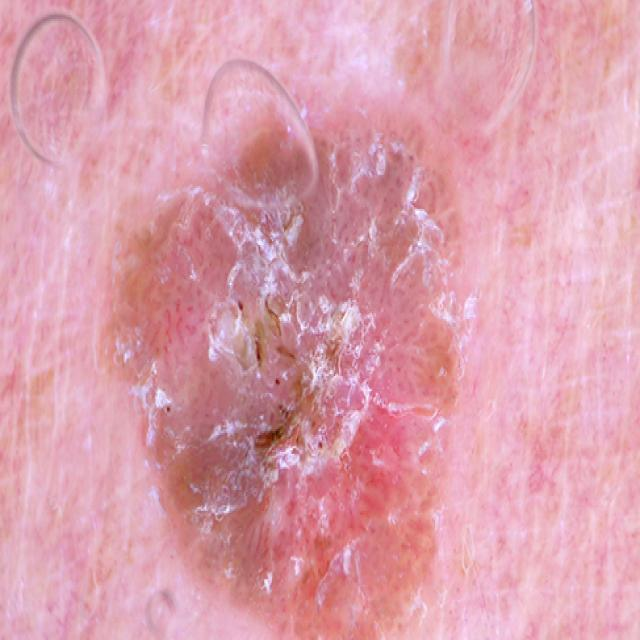Keratosis: (94, 68, 559, 640)
